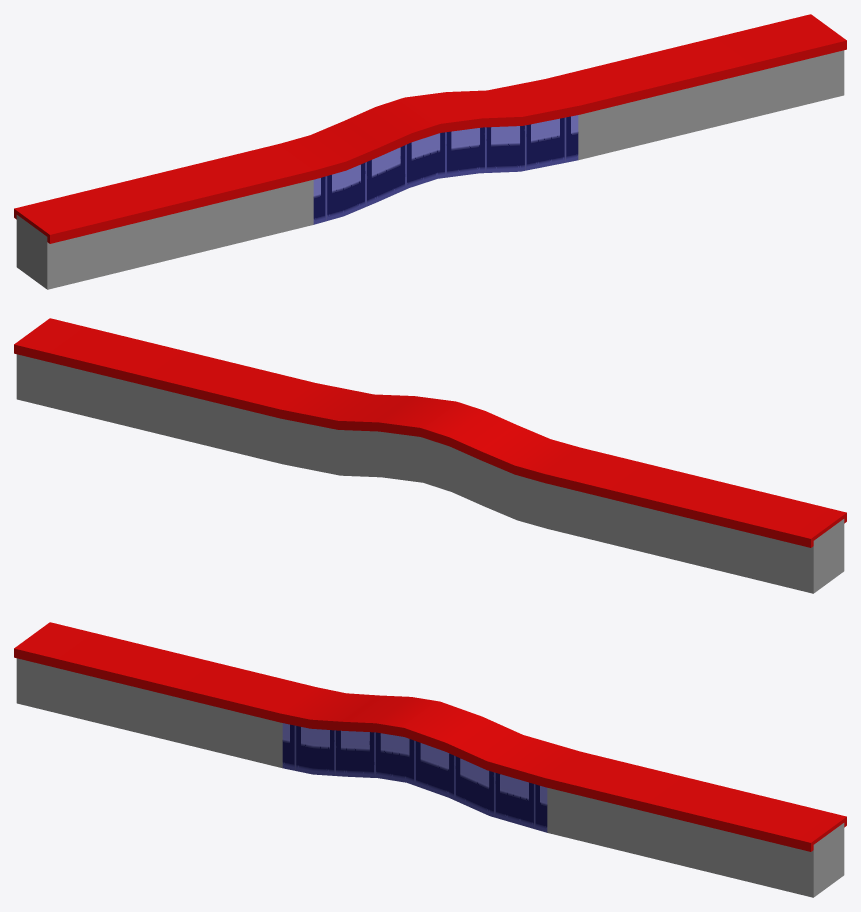
The model's file is Hardcore_Parkour_Platform3.fbx.
The picture shows the model from 3 angles, top to bottom: view 1: azimuth 30°, elevation 25°; view 2: azimuth 150°, elevation 25°; view 3: azimuth 330°, elevation 25°; orthographic projection.
Parts seen in each view (by area): view 1: polySurface6; view 2: polySurface6; view 3: polySurface6.
Part boxes in pixels (x1,y1,x2,y2): polySurface6: (14, 14, 846, 289); polySurface6: (14, 318, 846, 593); polySurface6: (14, 622, 846, 897).
Bounding box in the file's own units: 4047 × 352 × 317.
